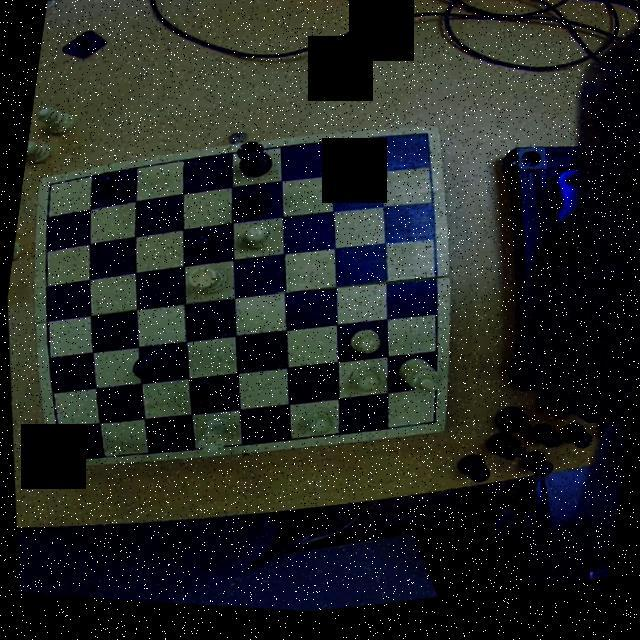chess-table-corners: (406, 132, 439, 162), (416, 414, 446, 444), (45, 447, 78, 473), (34, 176, 62, 204)
